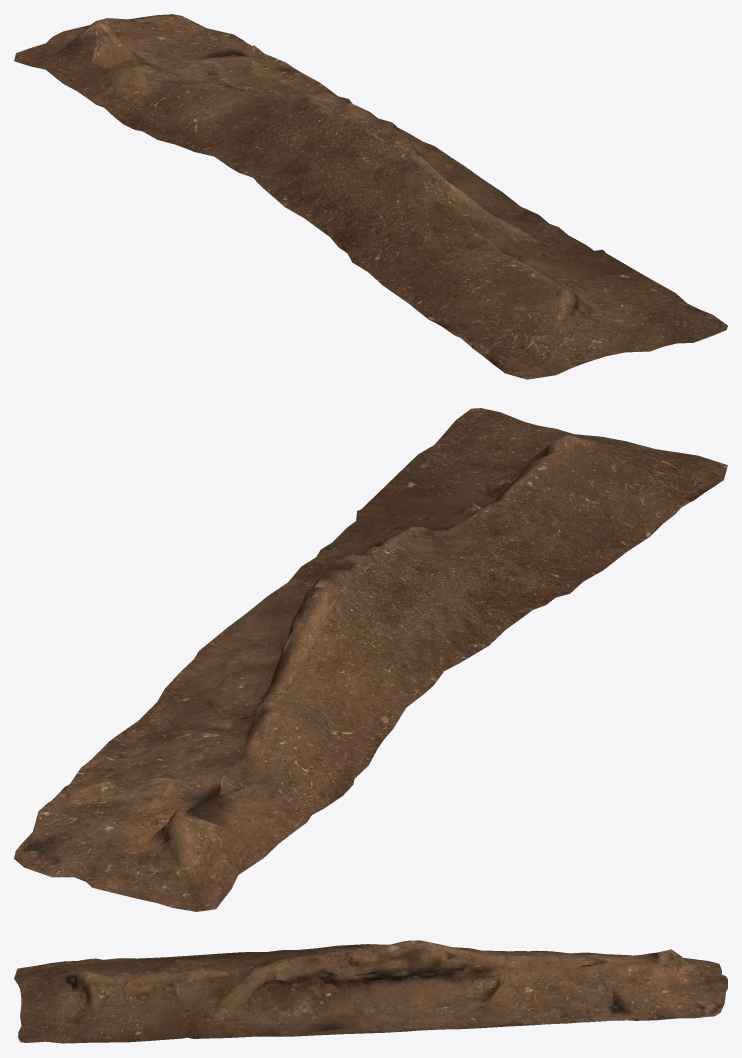
The model's file is single_root.glb.
3 views of the same model, one above another, from view 1: azimuth 30°, elevation 25°; view 2: azimuth 150°, elevation 25°; view 3: azimuth 270°, elevation 25° (orthographic). The views are drawn at different scales.
Visible parts, largest first — view 1: a; view 2: a; view 3: a.
Part boxes in pixels (left/top/right/bottom): a: left=14, top=14, right=727, bottom=379; a: left=14, top=408, right=727, bottom=911; a: left=14, top=940, right=727, bottom=1043.
Bounding box in the file's own units: 0.5539 × 0.1755 × 1.84.
Materials: 1 (1 with a texture image).
